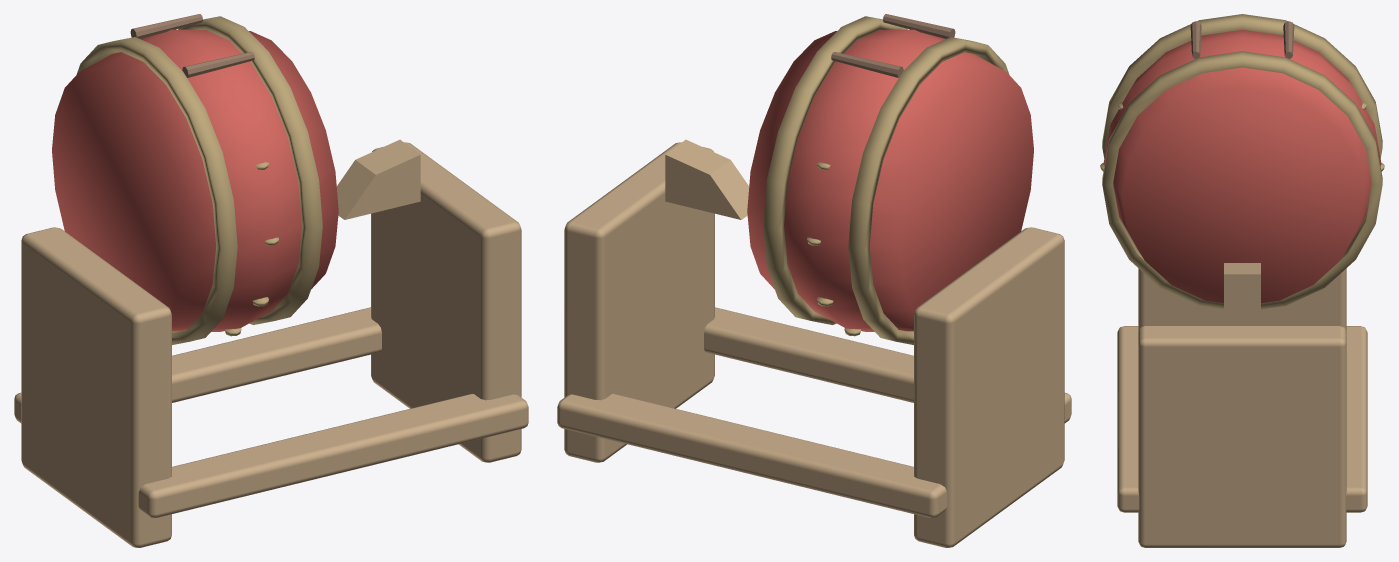
The model's file is drum.glb.
The picture shows the model from 3 angles, left to right: view 1: azimuth 30°, elevation 25°; view 2: azimuth 150°, elevation 25°; view 3: azimuth 270°, elevation 25°; orthographic projection. The views are drawn at different scales.
Visible parts, largest first — view 1: ceremonial-drum-on-stand, drum/lacquer, drum/bronze; view 2: ceremonial-drum-on-stand, drum/lacquer, drum/bronze; view 3: ceremonial-drum-on-stand, drum/lacquer, drum/bronze.
Part boxes in pixels (x1=…): ceremonial-drum-on-stand: x1=14, y1=14, x2=528, y2=547; drum/lacquer: x1=52, y1=29, x2=338, y2=331; drum/bronze: x1=76, y1=16, x2=322, y2=344; ceremonial-drum-on-stand: x1=557, y1=14, x2=1071, y2=547; drum/lacquer: x1=747, y1=29, x2=1033, y2=331; drum/bronze: x1=763, y1=16, x2=1009, y2=344; ceremonial-drum-on-stand: x1=1117, y1=21, x2=1367, y2=547; drum/lacquer: x1=1103, y1=30, x2=1381, y2=303; drum/bronze: x1=1100, y1=14, x2=1384, y2=309.
Bounding box in the file's own units: 1.74 × 1.88 × 1.23.
